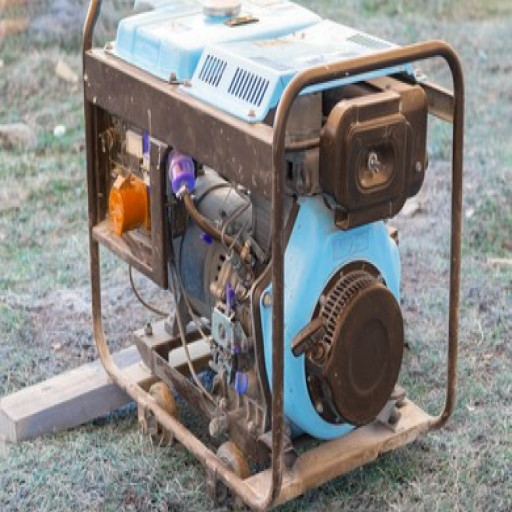portable_generator: (80, 1, 466, 512)
